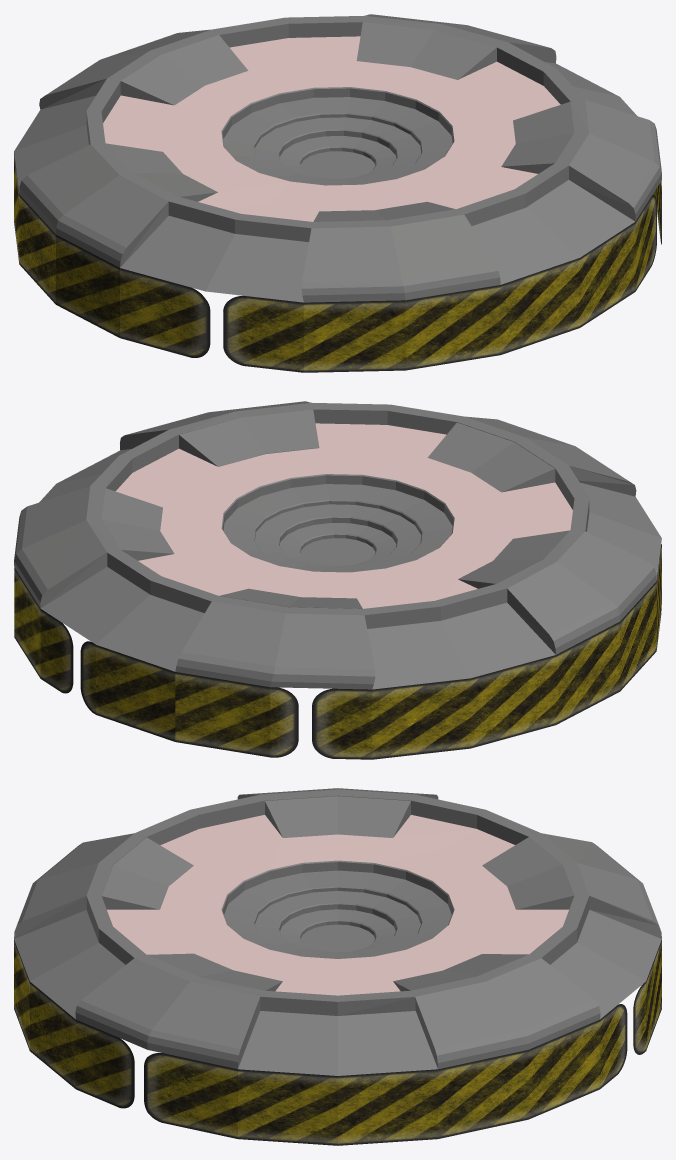
Rendered from LaunchPad.fbx.
3 renders of one model, top to bottom at view 1: azimuth 30°, elevation 25°; view 2: azimuth 150°, elevation 25°; view 3: azimuth 270°, elevation 25°, orthographic.
Parts seen in each view (by area): view 1: pCylinder1; view 2: pCylinder1; view 3: pCylinder1.
Boxes of the visible parts, x1,y1,x2,y2 form: pCylinder1: (14,14,661,372); pCylinder1: (14,401,661,759); pCylinder1: (14,788,661,1145).
Size of the model in its own units: 4.52 by 0.8735 by 4.52.
Materials: 3 (1 with a texture image).
